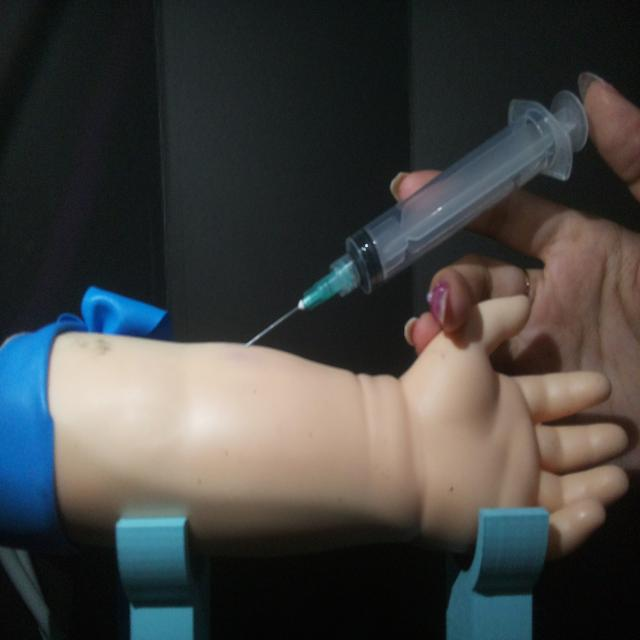30deg: (239, 83, 592, 351)
